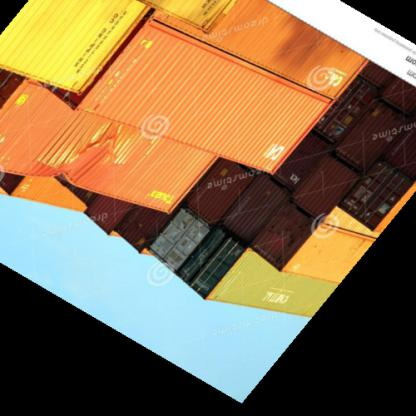Damage: (41, 144, 119, 188)
